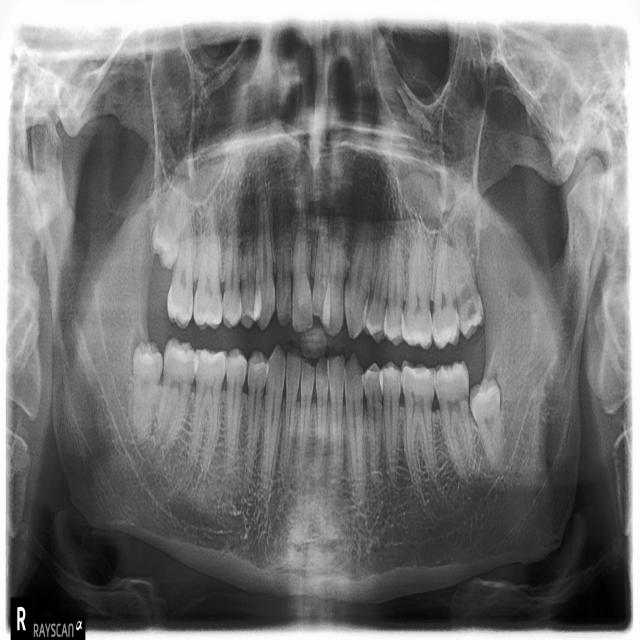mandibula: (30, 101, 607, 599)
